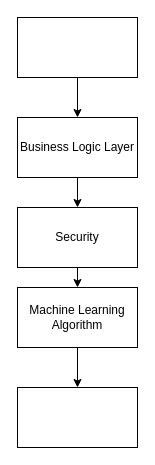
This 155x465 diagram has some shape labels left out. Here are the shapes that lost their labels. From the top down, the centre of each, then its label:
[77,47]: Browser
[77,417]: Database
